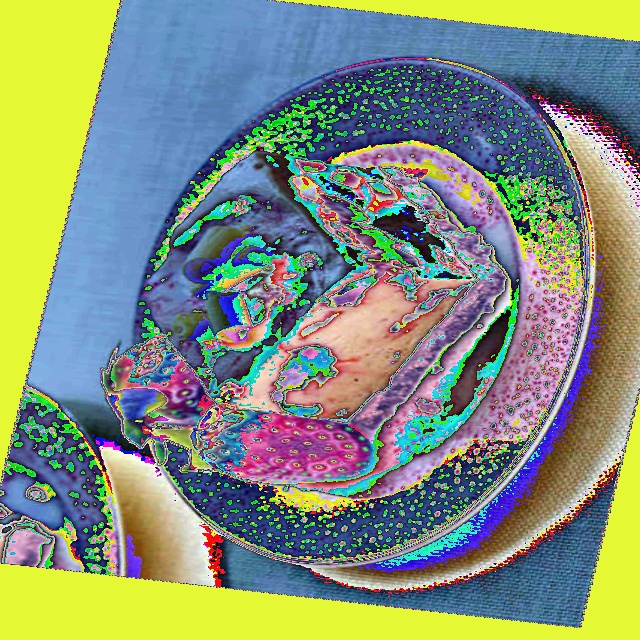background: (99, 149, 505, 485), (0, 59, 51, 566)
